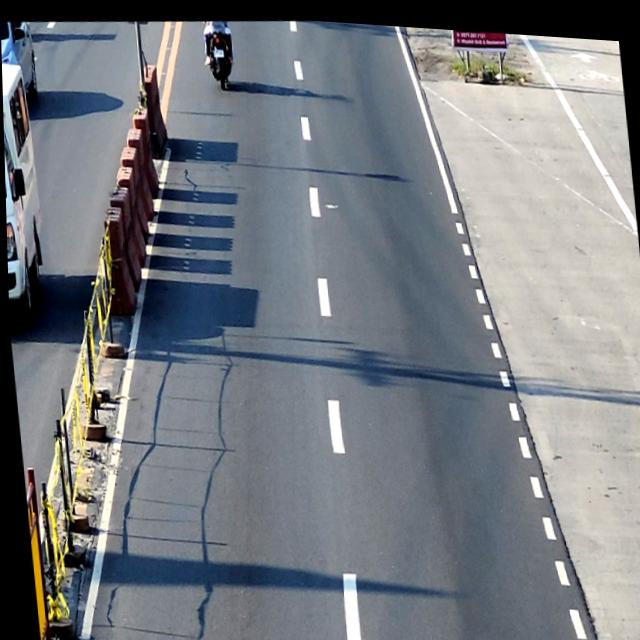Car: (1, 61, 48, 318), (0, 19, 38, 98)
License-Plate: (212, 45, 224, 55)
Motorcycle: (203, 17, 234, 87)
